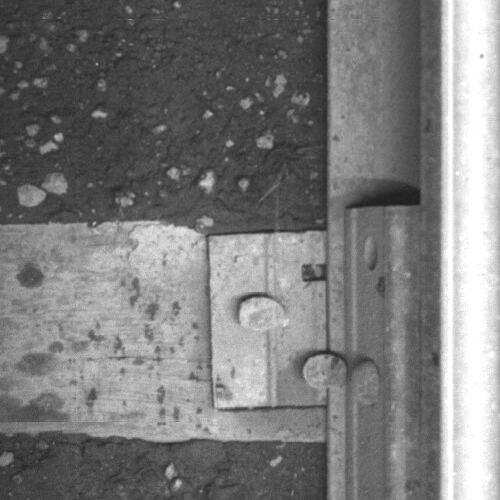do: (206, 229, 348, 410)
fp_beg: (344, 183, 421, 229)
hole_do: (290, 253, 335, 289)
rail: (438, 1, 500, 500)
tie_wood: (1, 221, 329, 444)
